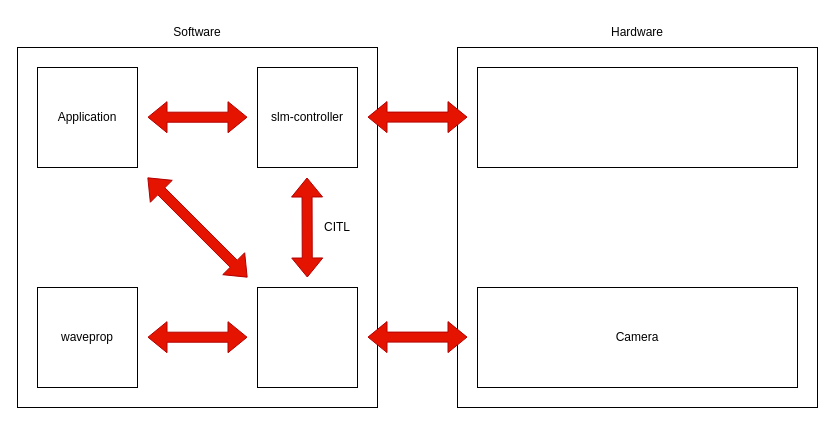
The diagram is 835 pixels wide and 425 high, and some of its shapes have lost their labels. Here are the shapes that lost their labels. From the top down, the centre of each, then its label:
At pixel 637 117: "SLM".
At pixel 307 337: "slm-designer".
